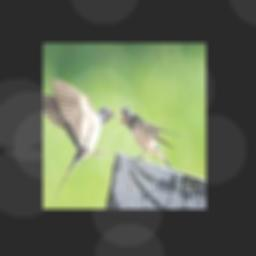Swallow: (43, 77, 116, 201), (118, 107, 183, 168)
